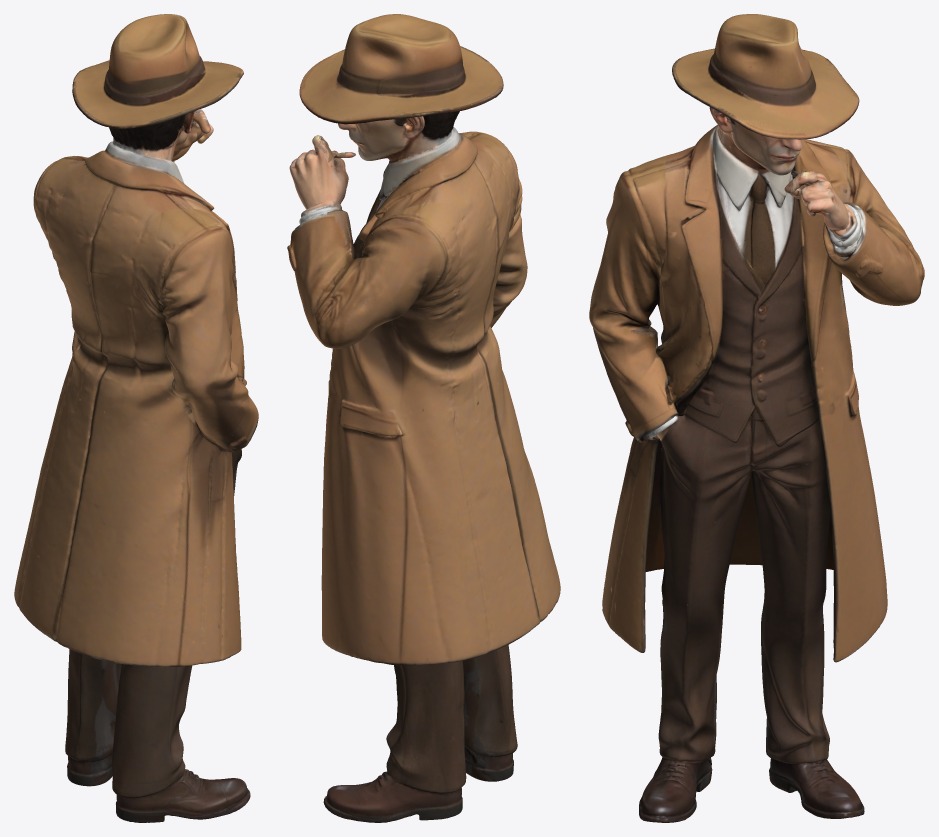
File: detective.glb
The picture shows the model from 3 angles, left to right: view 1: azimuth 30°, elevation 25°; view 2: azimuth 150°, elevation 25°; view 3: azimuth 270°, elevation 25°; orthographic projection. The views are drawn at different scales.
Parts seen in each view (by area): view 1: Object_5, Object_7, Object_4, Object_6; view 2: Object_7, Object_5, Object_4, Object_6; view 3: Object_6, Object_5, Object_4, Object_7.
Part boxes in pixels (x1=…): Object_5: x1=22, y1=14, x2=248, y2=819; Object_7: x1=14, y1=21, x2=236, y2=822; Object_4: x1=16, y1=61, x2=258, y2=822; Object_6: x1=103, y1=14, x2=258, y2=817; Object_7: x1=319, y1=21, x2=560, y2=822; Object_5: x1=289, y1=14, x2=559, y2=819; Object_4: x1=287, y1=52, x2=560, y2=822; Object_6: x1=287, y1=18, x2=493, y2=822; Object_6: x1=600, y1=24, x2=923, y2=822; Object_5: x1=589, y1=14, x2=924, y2=817; Object_4: x1=601, y1=52, x2=913, y2=821; Object_7: x1=590, y1=16, x2=908, y2=807.
Size of the model in its own units: 0.5489 by 1.9 by 0.739.
1 material, 1 textured.
